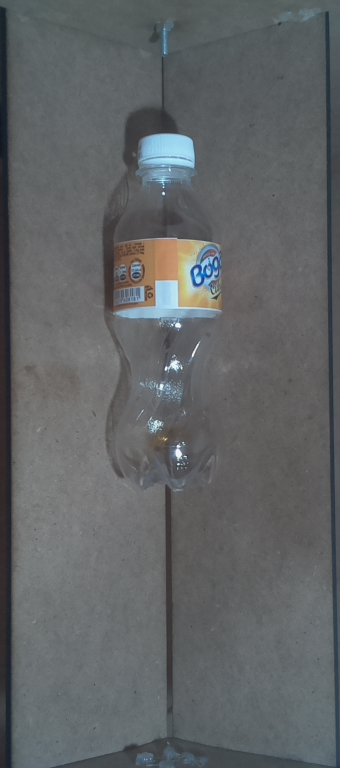Bouteille_0.3L: (97, 125, 240, 501)
